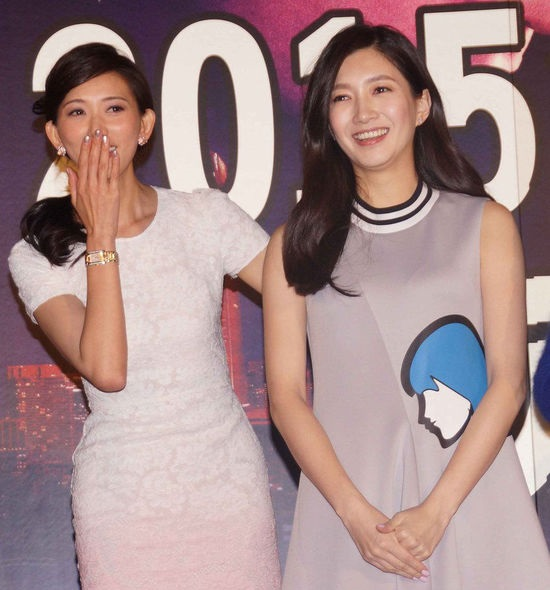face: (328, 52, 413, 165), (57, 70, 138, 176)
